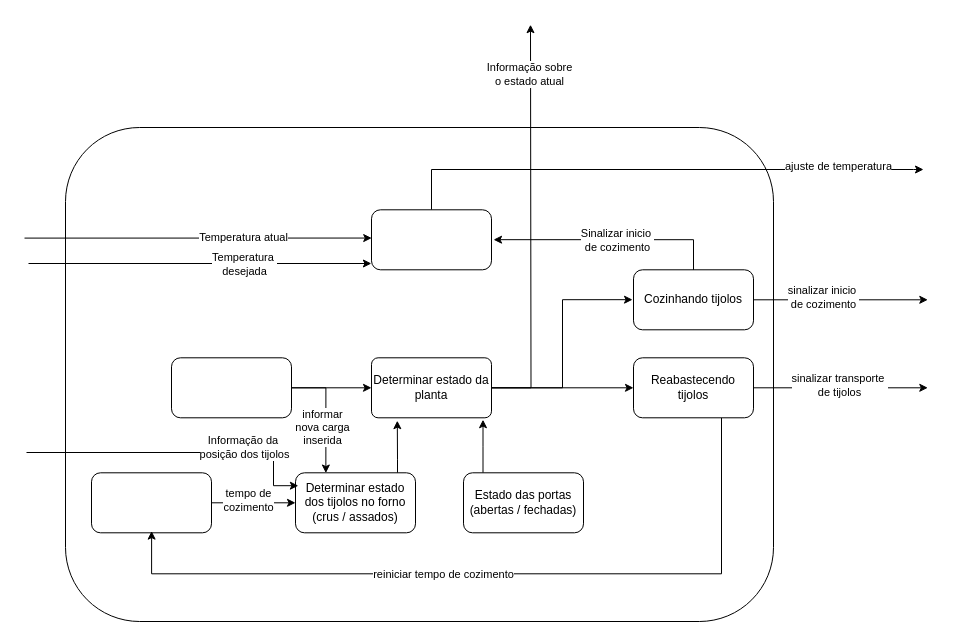
The diagram is 954 pixels wide and 639 high, and some of its shapes have lost their labels. Here are the shapes that lost their labels. From the top down, the centre of each, then its label:
the point at 431,239: Controle de malha fechada de temperatura
the point at 231,387: Determinar posição discreta dos tijolos (dentro / fora)
the point at 151,502: Medir tempo de cozimento de tijolos
